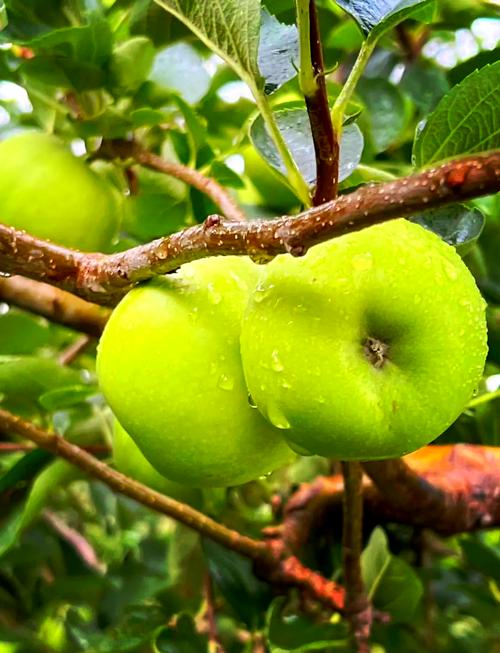unripe: (240, 213, 500, 468), (70, 237, 308, 493)
